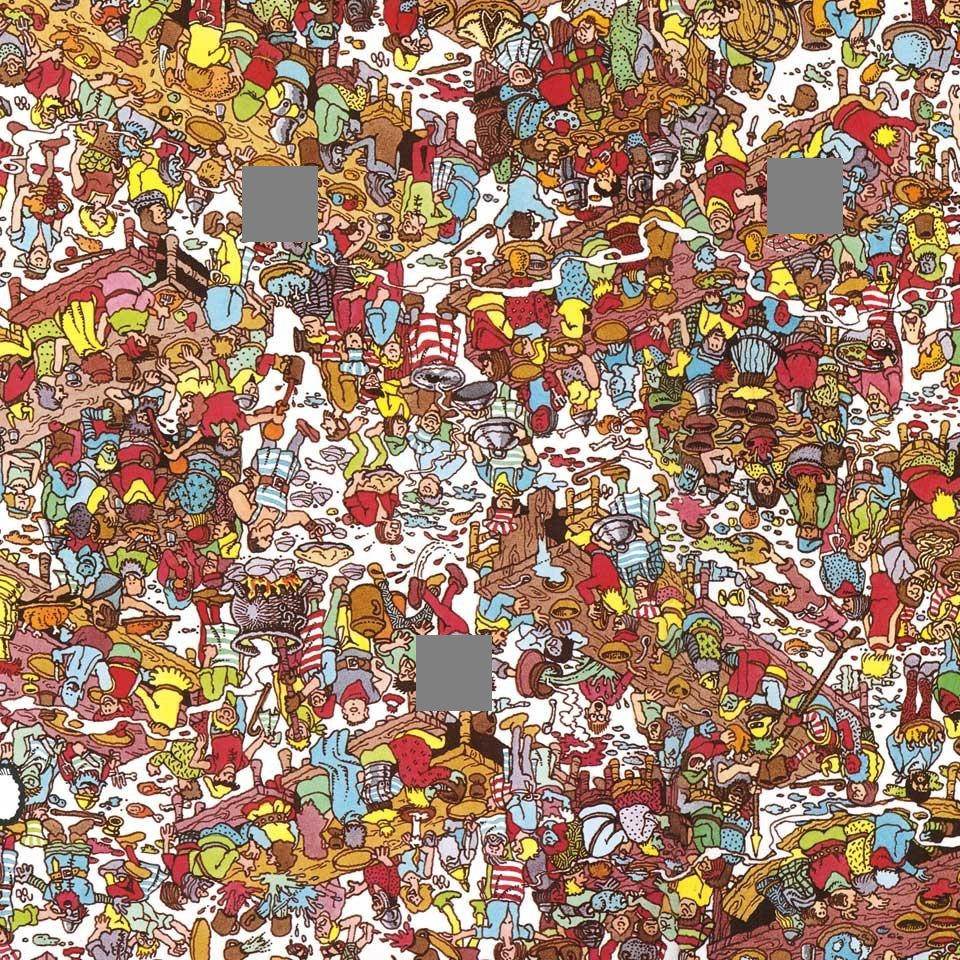waldo: (859, 288, 895, 366)
